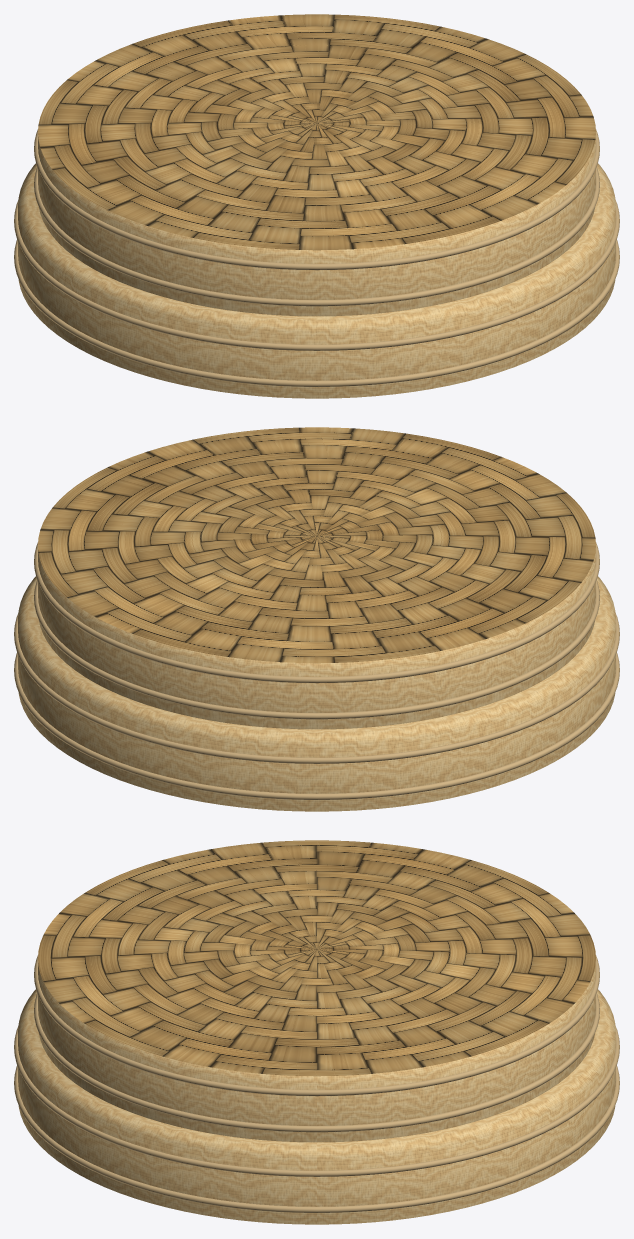
File: ENV_Dimsum_Tier.fbx
3 views of the same model, one above another, from view 1: azimuth 30°, elevation 25°; view 2: azimuth 150°, elevation 25°; view 3: azimuth 270°, elevation 25° (orthographic).
Visible parts, largest first — view 1: ENV_Dimsum_Tier; view 2: ENV_Dimsum_Tier; view 3: ENV_Dimsum_Tier.
Boxes of the visible parts, x1,y1,x2,y2 form: ENV_Dimsum_Tier: [14, 14, 619, 398]; ENV_Dimsum_Tier: [14, 427, 619, 811]; ENV_Dimsum_Tier: [14, 840, 619, 1224].
Size of the model in its own units: 18.24 by 4.95 by 18.24.
